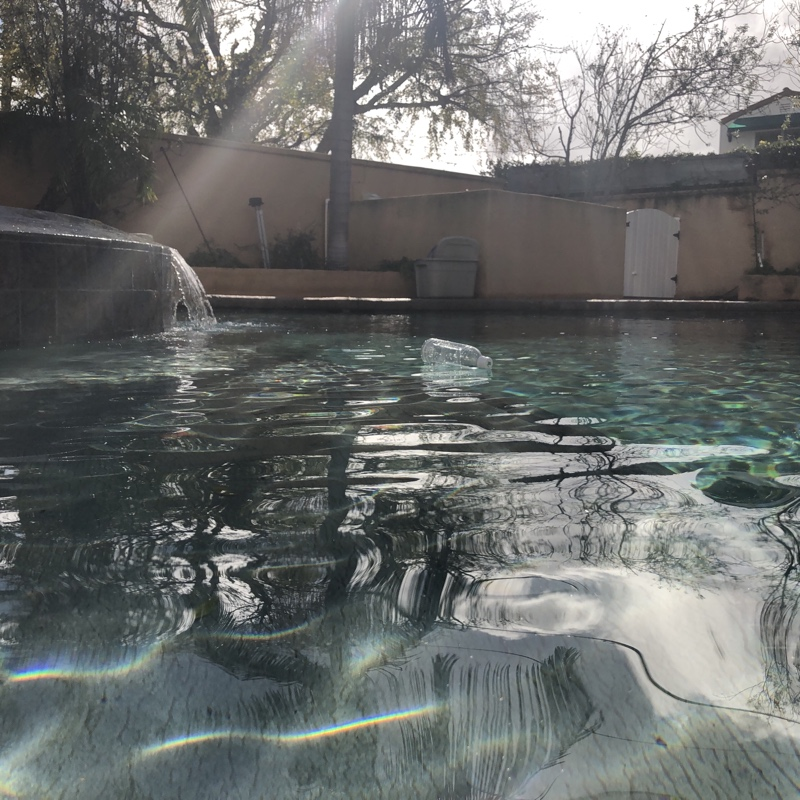Plastic Bottle: (417, 338, 495, 375)
